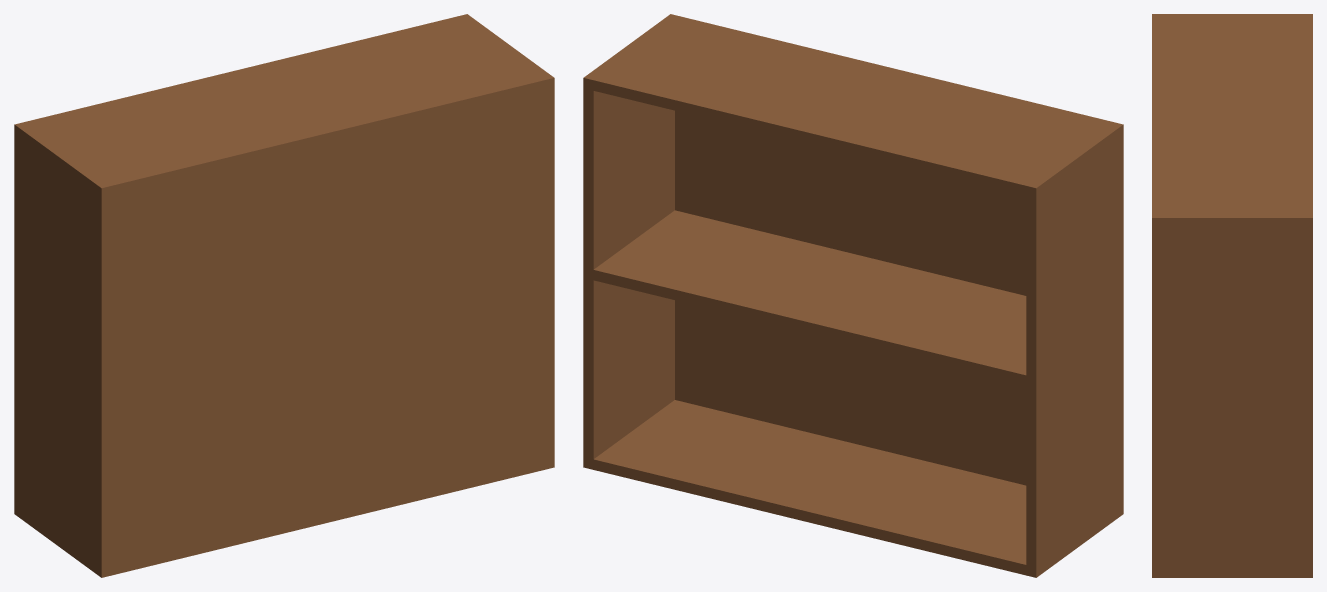
File: parametric-wall-shelf-2nd-0900x0300x0740.glb
The picture shows the model from 3 angles, left to right: view 1: azimuth 30°, elevation 25°; view 2: azimuth 150°, elevation 25°; view 3: azimuth 270°, elevation 25°; orthographic projection. The views are drawn at different scales.
Visible parts, largest first — view 1: backboard, top, end:-1, end:1; view 2: backboard, top, end:-1, bottom, shelf, end:1; view 3: end:1, top, backboard, end:-1.
Boxes of the visible parts, <box> form: backboard: <box>95,73,554,577</box>; top: <box>25,16,537,181</box>; end:-1: <box>14,122,105,573</box>; end:1: <box>457,14,548,75</box>; backboard: <box>665,14,1123,517</box>; top: <box>593,21,1106,196</box>; end:-1: <box>1026,126,1117,577</box>; bottom: <box>593,400,1026,575</box>; shelf: <box>593,210,1026,385</box>; end:1: <box>583,18,674,469</box>; end:1: <box>1162,213,1312,577</box>; top: <box>1162,18,1312,213</box>; backboard: <box>1152,14,1162,577</box>; end:-1: <box>1162,14,1312,18</box>.
Size of the model in its own units: 0.9 by 0.74 by 0.3.
